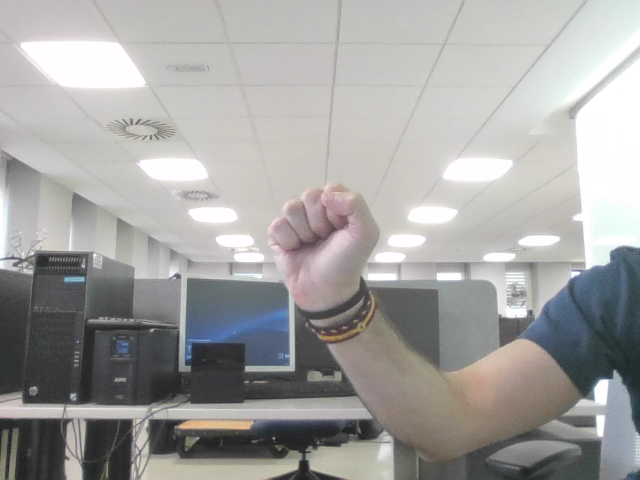Puño: (281, 193, 361, 268)
